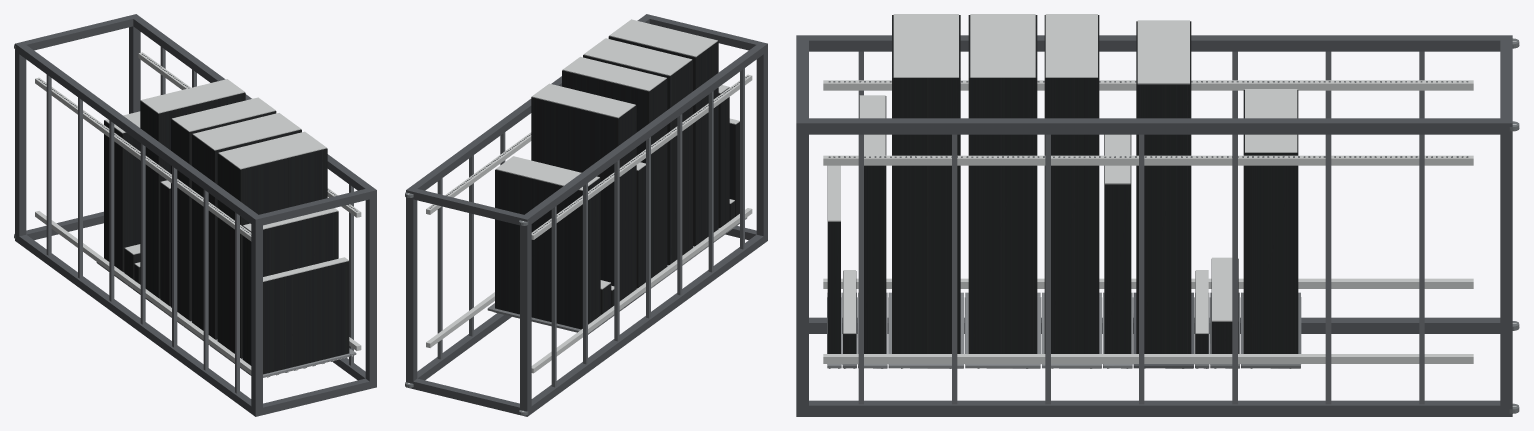
Rendered from storage-42u.glb.
3 renders of one model, left to right at view 1: azimuth 30°, elevation 25°; view 2: azimuth 150°, elevation 25°; view 3: azimuth 270°, elevation 25°, orthographic. The views are drawn at different scales.
Parts seen in each view (by area): view 1: RACK_FRAME__nexus_black_dark, SIDE_BRACES__nexus_black, SAS_FABRIC__steel_textured, ME4084_A__steel_textured, CONTROLLER_HEAD__steel_textured, MOUNTING_RAILS__cisco_grey_dark, ME4084_B__steel_textured, TAPE_LIBRARY__steel_textured, STORAGE_UPS__steel_textured, DS460_C__steel_textured, ME4084_A__cisco_grey_dark, ME4084_B__cisco_grey_dark (+6 smaller); view 2: RACK_FRAME__nexus_black_dark, STORAGE_UPS__steel_textured, TAPE_LIBRARY__steel_textured, SIDE_BRACES__nexus_black, MOUNTING_RAILS__cisco_grey_dark, DS460_C__steel_textured, ME4084_A__steel_textured, ME4084_B__steel_textured, ME4084_A__cisco_grey_dark, ME4084_B__cisco_grey_dark, DS460_C__cisco_grey_dark, TAPE_LIBRARY__cisco_grey_dark (+6 smaller); view 3: RACK_FRAME__nexus_black_dark, MOUNTING_RAILS__cisco_grey_dark, ME4084_B__steel_textured, ME4084_A__steel_textured, DS460_C__steel_textured, SIDE_BRACES__nexus_black, TAPE_LIBRARY__steel_textured, STORAGE_UPS__steel_textured, FLASH_SHELF__steel_textured, CONTROLLER_HEAD__steel_textured, ME4084_A__cisco_grey_dark, ME4084_B__cisco_grey_dark (+17 smaller).
Part boxes in pixels (<box>): RACK_FRAME__nexus_black_dark: <box>15,14,376,416</box>; SIDE_BRACES__nexus_black: <box>46,46,353,393</box>; SAS_FABRIC__steel_textured: <box>263,261,349,374</box>; ME4084_A__steel_textured: <box>217,148,327,358</box>; CONTROLLER_HEAD__steel_textured: <box>242,211,338,365</box>; MOUNTING_RAILS__cisco_grey_dark: <box>35,52,361,374</box>; ME4084_B__steel_textured: <box>192,129,301,339</box>; TAPE_LIBRARY__steel_textured: <box>140,92,245,298</box>; STORAGE_UPS__steel_textured: <box>104,120,140,271</box>; DS460_C__steel_textured: <box>171,111,276,320</box>; ME4084_A__cisco_grey_dark: <box>218,131,326,169</box>; ME4084_B__cisco_grey_dark: <box>192,113,301,150</box>; RACK_FRAME__nexus_black_dark: <box>406,14,767,416</box>; STORAGE_UPS__steel_textured: <box>495,169,600,329</box>; TAPE_LIBRARY__steel_textured: <box>531,97,636,301</box>; SIDE_BRACES__nexus_black: <box>437,68,744,387</box>; MOUNTING_RAILS__cisco_grey_dark: <box>426,74,752,373</box>; DS460_C__steel_textured: <box>562,70,667,278</box>; ME4084_A__steel_textured: <box>608,36,718,246</box>; ME4084_B__steel_textured: <box>583,55,692,264</box>; ME4084_A__cisco_grey_dark: <box>609,19,717,57</box>; ME4084_B__cisco_grey_dark: <box>583,38,692,75</box>; DS460_C__cisco_grey_dark: <box>562,56,666,91</box>; TAPE_LIBRARY__cisco_grey_dark: <box>531,83,635,118</box>; RACK_FRAME__nexus_black_dark: <box>796,35,1512,416</box>; MOUNTING_RAILS__cisco_grey_dark: <box>823,80,1473,363</box>; ME4084_B__steel_textured: <box>968,15,1037,353</box>; ME4084_A__steel_textured: <box>892,15,960,353</box>; DS460_C__steel_textured: <box>1044,15,1099,353</box>; SIDE_BRACES__nexus_black: <box>858,51,1424,404</box>; TAPE_LIBRARY__steel_textured: <box>1136,21,1191,353</box>; STORAGE_UPS__steel_textured: <box>1243,90,1298,353</box>; FLASH_SHELF__steel_textured: <box>1104,134,1131,353</box>; CONTROLLER_HEAD__steel_textured: <box>859,96,886,353</box>; ME4084_A__cisco_grey_dark: <box>893,14,958,77</box>; ME4084_B__cisco_grey_dark: <box>970,14,1035,77</box>.
Size of the model in its own units: 0.609 by 1.05 by 2.1.
Materials: 27 (5 with a texture image).
